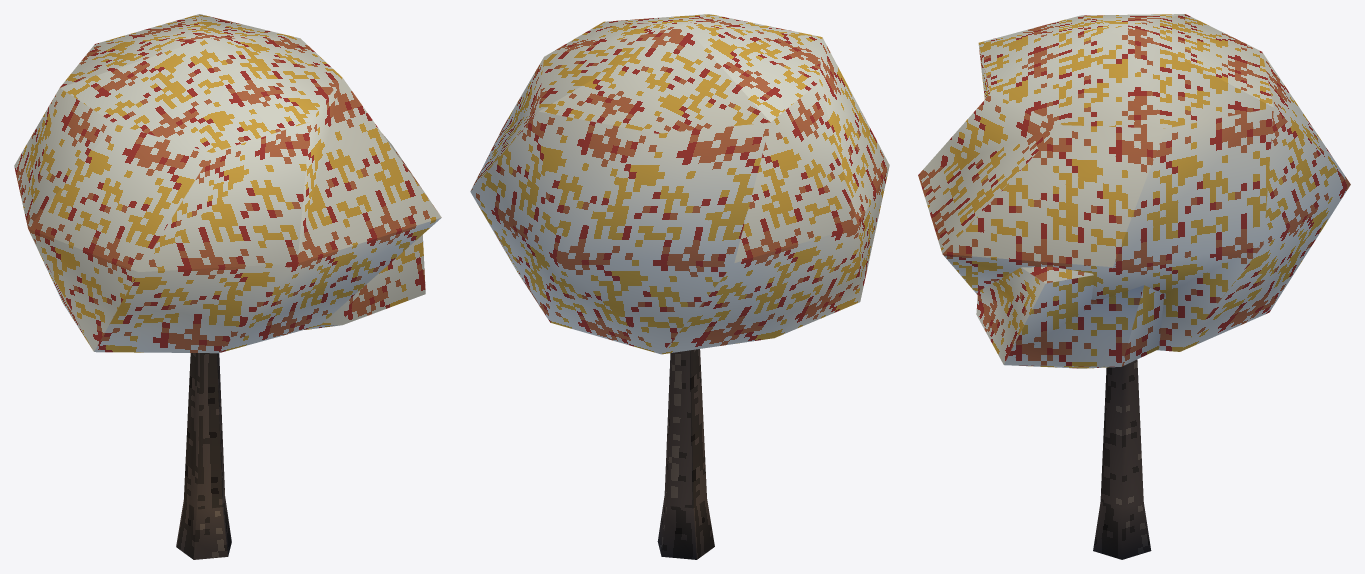
Rendered from mnat.orchard__blossom.glb.
The picture shows the model from 3 angles, left to right: view 1: azimuth 30°, elevation 25°; view 2: azimuth 150°, elevation 25°; view 3: azimuth 270°, elevation 25°; orthographic projection. The views are drawn at different scales.
Visible parts, largest first — view 1: kit_crown, kit_trunk; view 2: kit_crown, kit_trunk; view 3: kit_crown, kit_trunk.
Boxes of the visible parts, bbox=[...] form: kit_crown: bbox=[14, 14, 441, 353]; kit_trunk: bbox=[176, 353, 231, 559]; kit_crown: bbox=[470, 14, 889, 354]; kit_trunk: bbox=[657, 349, 714, 559]; kit_crown: bbox=[918, 14, 1350, 368]; kit_trunk: bbox=[1093, 359, 1151, 559].
Bounding box in the file's own units: 3.14 × 4.3 × 3.24.
2 materials, 2 textured.
